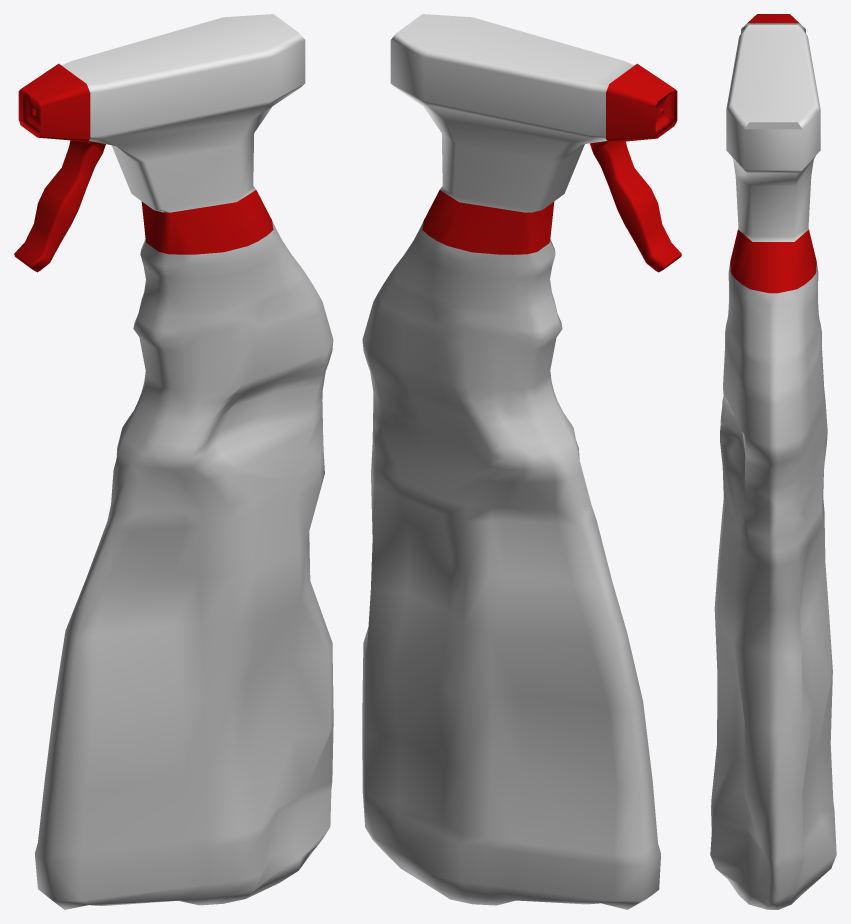
File: Trash_SprayBottle.fbx
3 renders of one model, left to right at view 1: azimuth 30°, elevation 25°; view 2: azimuth 150°, elevation 25°; view 3: azimuth 270°, elevation 25°, orthographic. The views are drawn at different scales.
Visible parts, largest first — view 1: pCube1; view 2: pCube1; view 3: pCube1.
Boxes of the visible parts, left/top/right/bottom form: pCube1: left=14, top=14, right=333, bottom=909; pCube1: left=362, top=14, right=681, bottom=909; pCube1: left=710, top=14, right=836, bottom=909.
Bounding box in the file's own units: 2.38 × 6.23 × 0.901.
